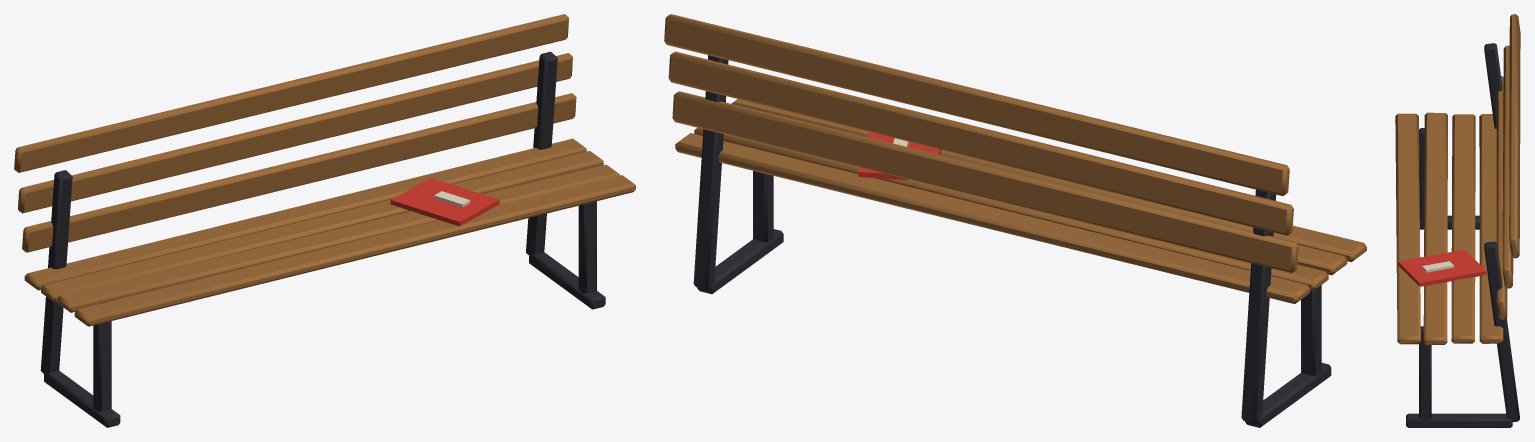
Rendered from bench_block.glb.
3 renders of one model, left to right at view 1: azimuth 30°, elevation 25°; view 2: azimuth 150°, elevation 25°; view 3: azimuth 270°, elevation 25°, orthographic. The views are drawn at different scales.
Parts seen in each view (by area): view 1: bench; view 2: bench; view 3: bench.
Part boxes in pixels (bbox=[...]): bench: bbox=[14, 14, 635, 427]; bench: bbox=[664, 14, 1366, 427]; bench: bbox=[1395, 14, 1520, 427].
Size of the model in its own units: 2.5 by 1.04 by 0.5866.
